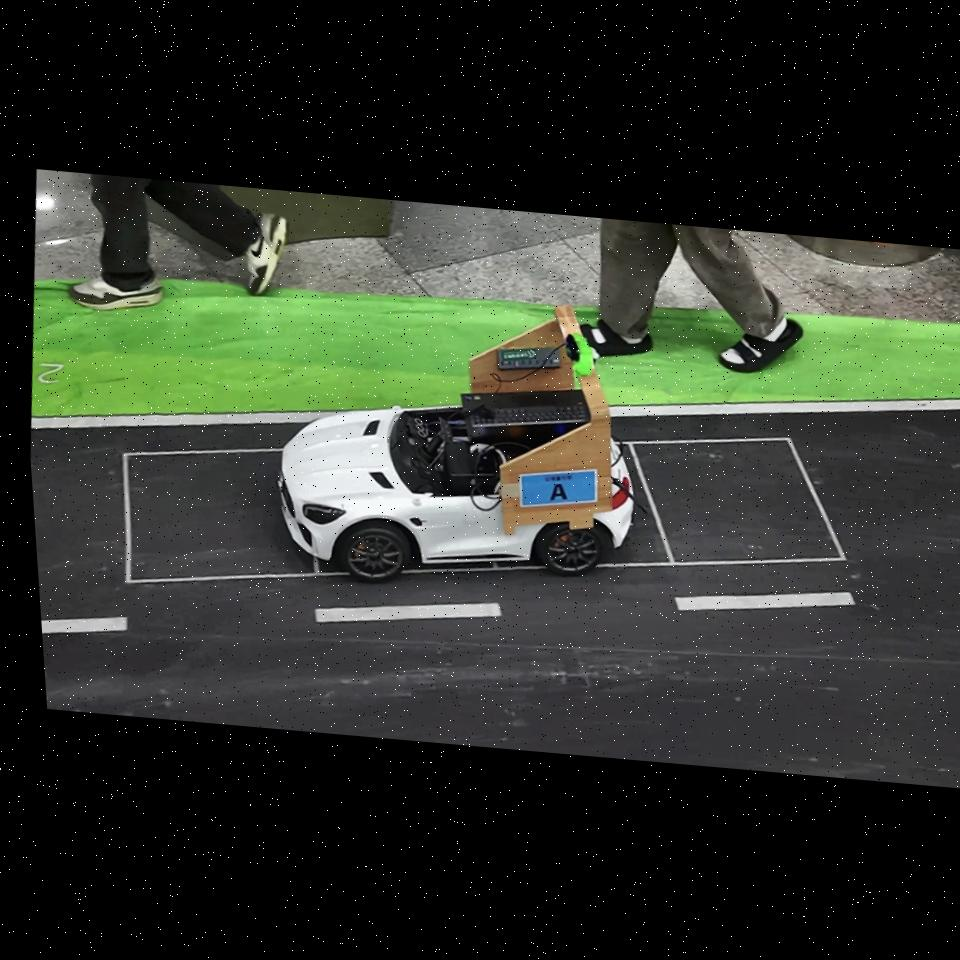broken_line: (315, 603, 502, 622), (674, 592, 856, 610), (41, 617, 128, 633)
